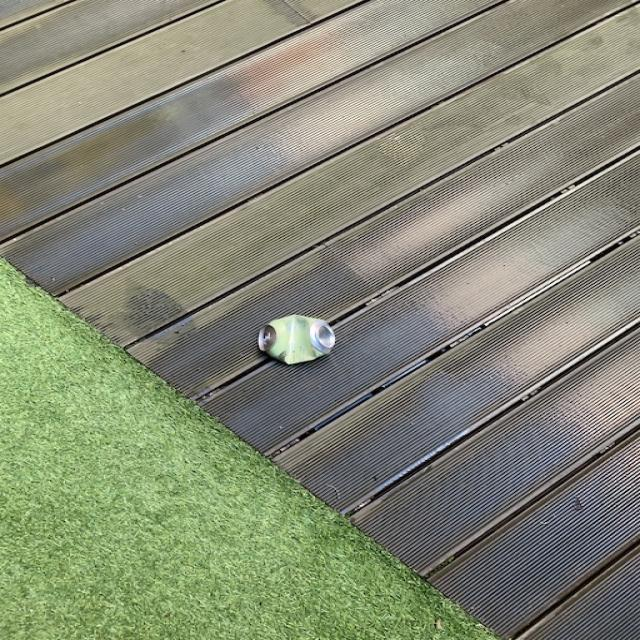litter: (258, 314, 338, 367)
